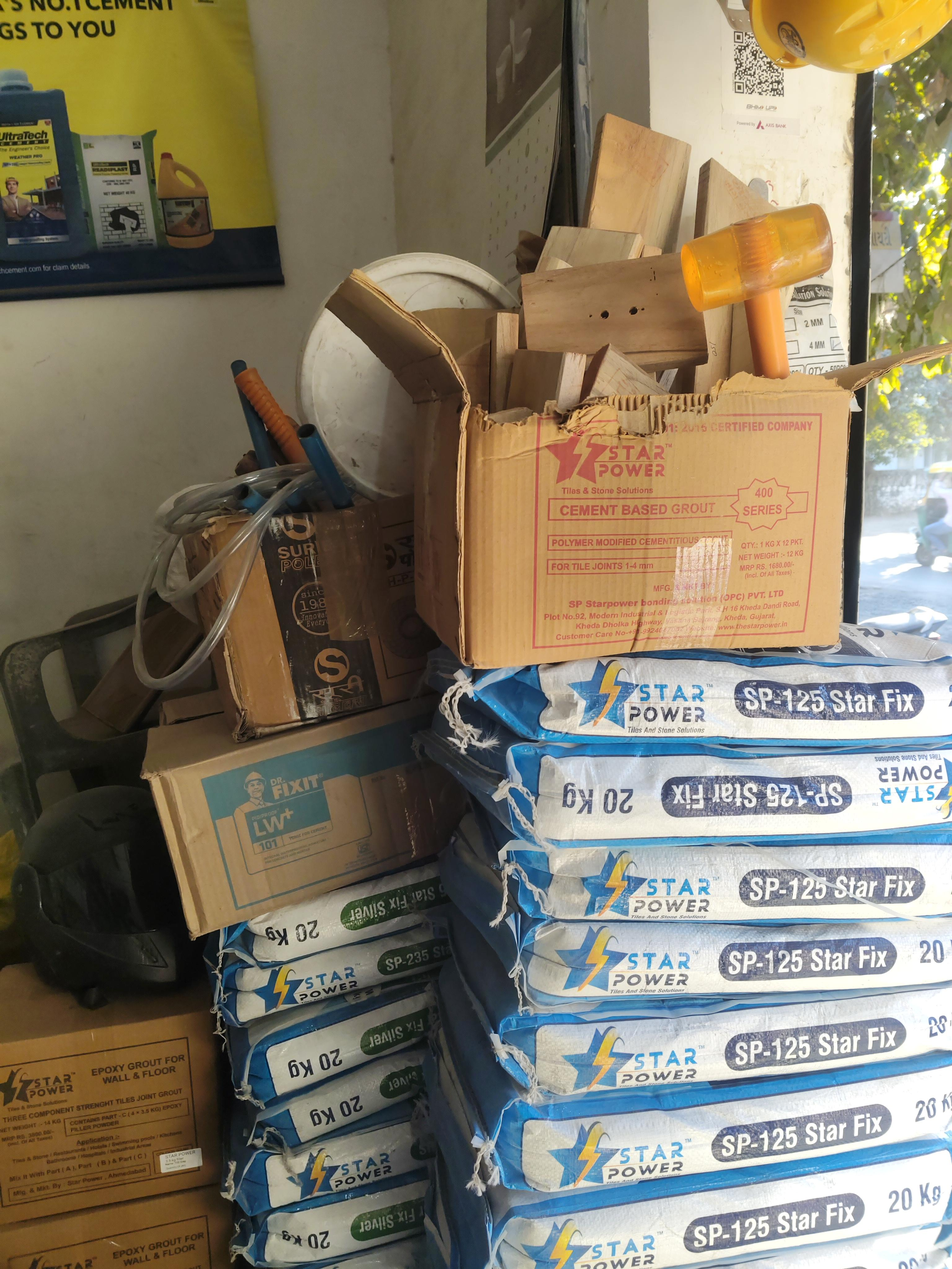poster: (4, 1, 302, 304)
